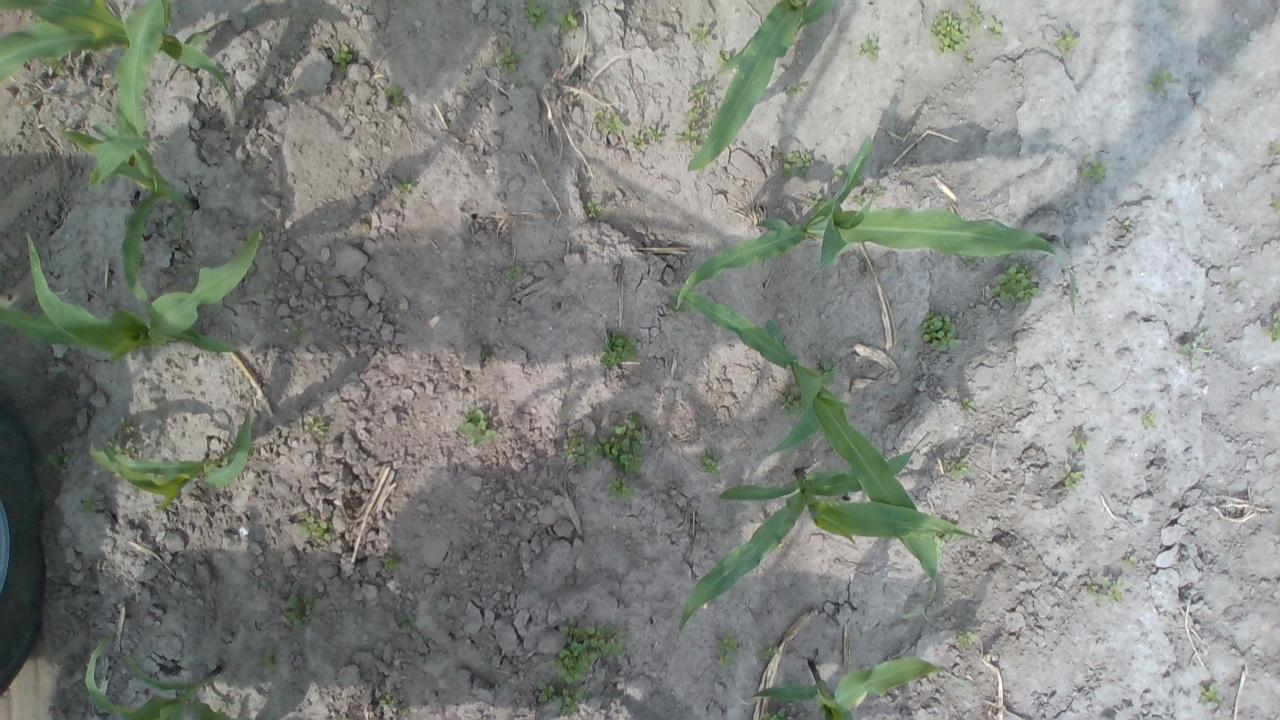Maize: (666, 286, 941, 622), (674, 135, 1080, 312), (676, 434, 979, 635), (65, 0, 196, 307), (0, 228, 262, 360), (685, 0, 829, 173), (3, 0, 230, 106), (84, 408, 253, 514), (86, 634, 292, 720), (748, 657, 972, 720)
Weeds: (550, 616, 626, 684), (593, 412, 647, 476), (990, 264, 1040, 306), (928, 7, 969, 57), (919, 311, 960, 352), (454, 406, 497, 444), (598, 332, 638, 368), (562, 430, 598, 470), (102, 416, 134, 458), (282, 590, 314, 628), (1086, 576, 1126, 604), (295, 516, 335, 543), (559, 688, 592, 720), (494, 47, 530, 74), (520, 0, 551, 30), (673, 127, 707, 153), (717, 630, 738, 672), (1052, 26, 1080, 57), (1180, 328, 1210, 356), (815, 353, 841, 384), (782, 151, 813, 177), (604, 476, 636, 501), (258, 646, 286, 674), (1078, 158, 1106, 184), (764, 318, 786, 350), (1058, 462, 1082, 491), (1146, 71, 1172, 97), (599, 110, 625, 135), (778, 390, 802, 417), (1198, 682, 1223, 706), (44, 447, 72, 468), (332, 43, 354, 69), (40, 54, 66, 76), (700, 450, 721, 477), (534, 678, 556, 703), (967, 2, 984, 31), (949, 456, 970, 478), (956, 627, 976, 649), (862, 39, 881, 62), (383, 84, 402, 106), (933, 530, 962, 544), (761, 706, 790, 720), (397, 613, 417, 633), (756, 644, 778, 662), (378, 692, 401, 708), (688, 24, 711, 40), (1140, 409, 1158, 429), (586, 199, 604, 219), (556, 11, 576, 29), (306, 415, 326, 433), (990, 16, 1004, 40), (1270, 308, 1280, 340), (26, 12, 48, 26), (686, 83, 704, 100), (1119, 551, 1137, 567), (503, 265, 521, 281), (383, 555, 401, 571), (80, 496, 96, 512), (398, 176, 414, 192), (962, 398, 976, 414), (648, 126, 662, 142), (669, 288, 681, 305), (805, 192, 819, 206), (686, 107, 701, 120), (1071, 439, 1089, 449), (718, 52, 734, 63), (1120, 218, 1132, 232), (1268, 142, 1280, 156), (632, 136, 642, 150), (291, 326, 305, 336), (1271, 196, 1280, 210), (831, 168, 845, 176), (790, 82, 801, 92), (872, 182, 882, 192), (80, 472, 87, 480)
